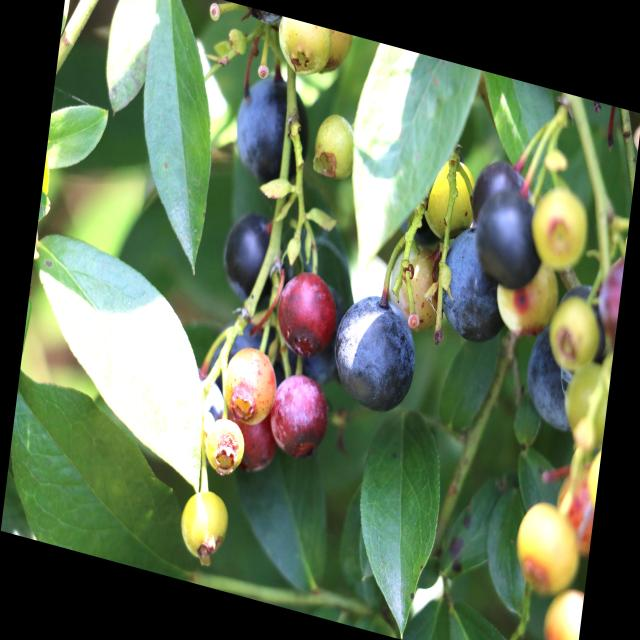blueberry: (329, 284, 424, 419), (434, 219, 521, 357), (143, 366, 228, 494), (226, 66, 309, 192), (468, 182, 550, 296), (518, 318, 592, 432), (214, 201, 283, 308), (202, 312, 276, 404), (464, 144, 535, 226)
blueberry-halfripe: (266, 360, 328, 462), (274, 266, 336, 360), (223, 334, 278, 426), (229, 407, 279, 478)
blueberry-unripe: (526, 174, 593, 277), (514, 497, 582, 598), (414, 144, 480, 240), (497, 254, 563, 344), (384, 240, 442, 330), (180, 484, 231, 569), (547, 294, 601, 374), (276, 16, 333, 83), (311, 109, 361, 179), (204, 412, 249, 483)
